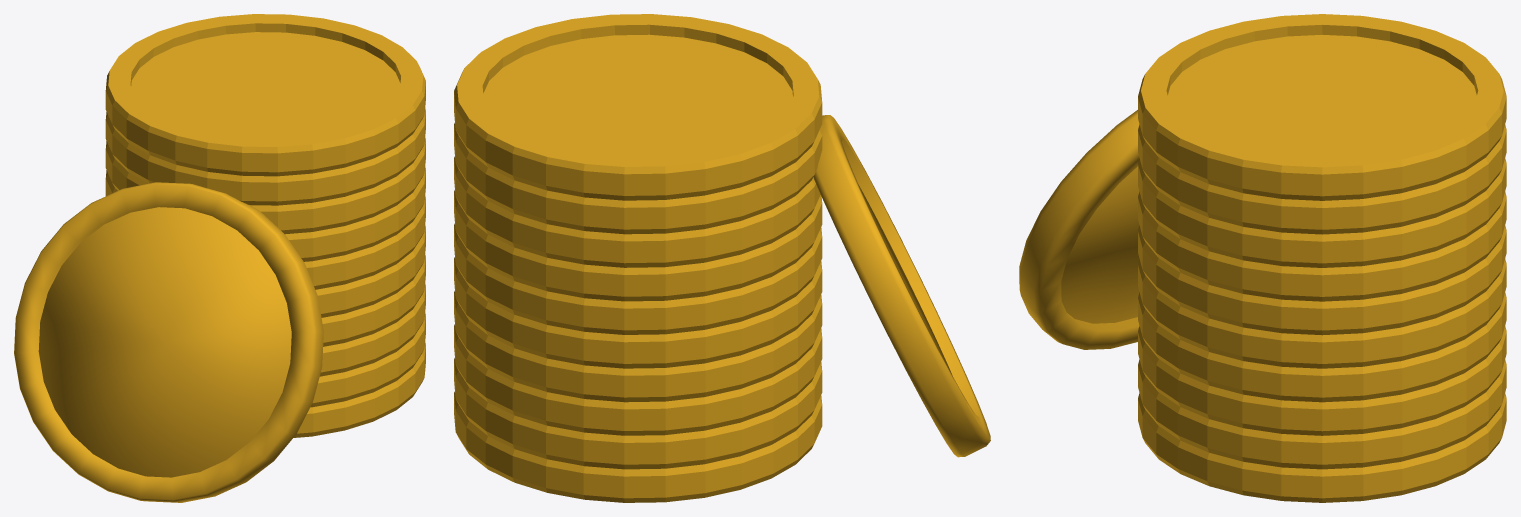
File: Coins.fbx
The picture shows the model from 3 angles, left to right: view 1: azimuth 30°, elevation 25°; view 2: azimuth 150°, elevation 25°; view 3: azimuth 270°, elevation 25°; orthographic projection. The views are drawn at different scales.
Visible parts, largest first — view 1: Circle.001; view 2: Circle.001; view 3: Circle.001.
Part boxes in pixels (<box>): Circle.001: <box>14,14,425,502</box>; Circle.001: <box>454,14,990,502</box>; Circle.001: <box>1019,14,1506,502</box>.
Bounding box in the file's own units: 292 × 215 × 264.
